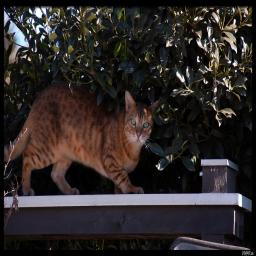catnose: (136, 131, 141, 139)
